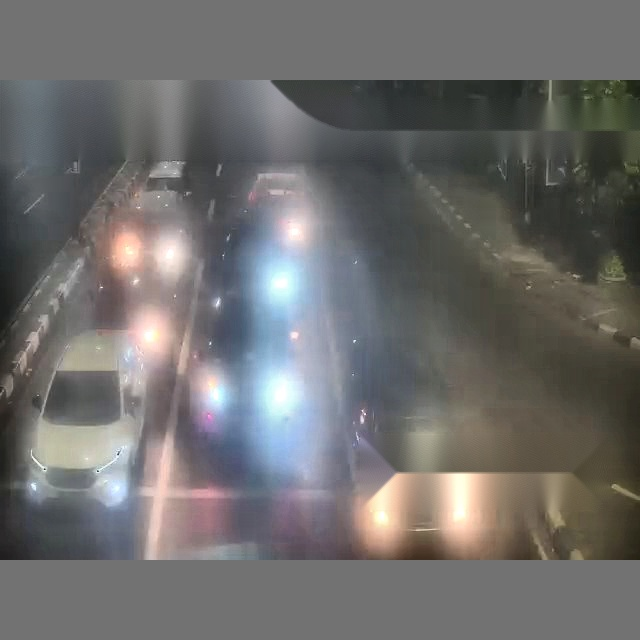Mobil: (30, 330, 146, 509)
